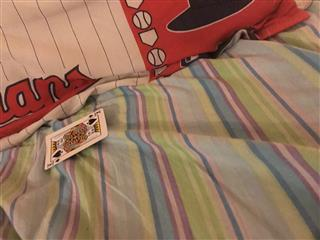KingOfSpades: (43, 107, 108, 171)
